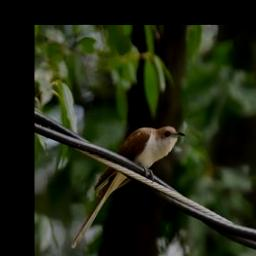Cuckoo: (70, 123, 186, 251)
